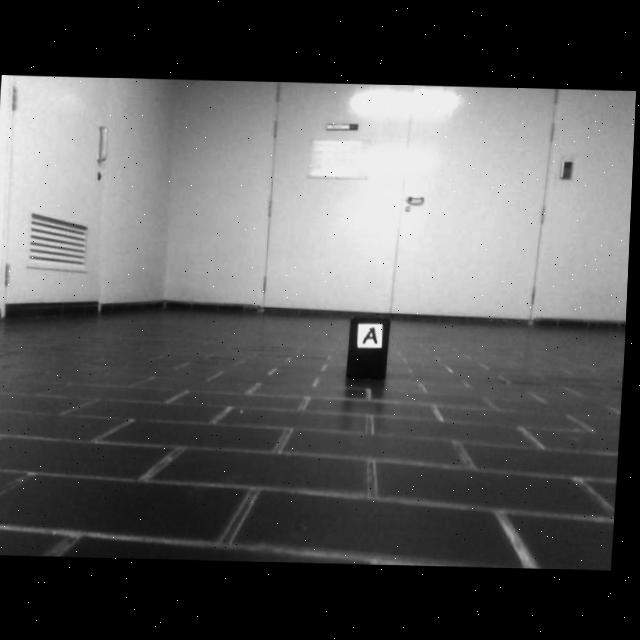A: (365, 326, 382, 344)
